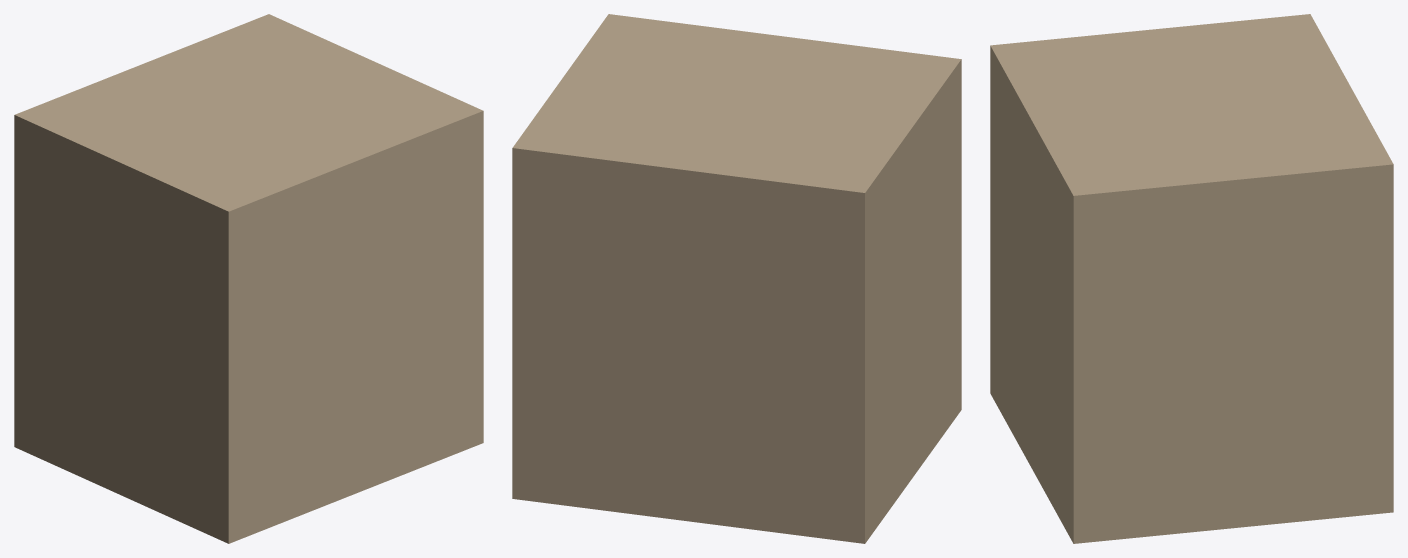
Rendered from bld_99872047.dae.
3 renders of one model, left to right at view 1: azimuth 30°, elevation 25°; view 2: azimuth 150°, elevation 25°; view 3: azimuth 270°, elevation 25°, orthographic. The views are drawn at different scales.
Visible parts, largest first — view 1: bld_99872047; view 2: bld_99872047; view 3: bld_99872047.
Part boxes in pixels (<box>): bld_99872047: <box>14,14,483,543</box>; bld_99872047: <box>512,14,961,543</box>; bld_99872047: <box>990,14,1393,543</box>.
Size of the model in its own units: 8.97 by 8.4 by 8.
